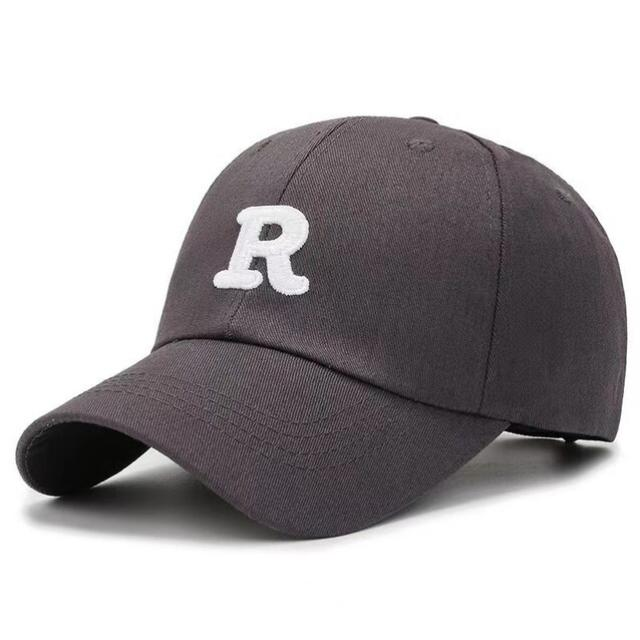Nonhelmet: (14, 111, 628, 540)
